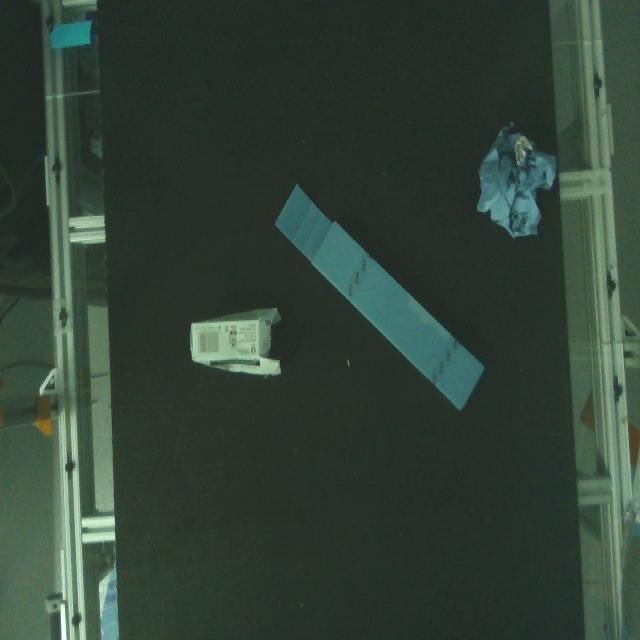paper: (268, 186, 491, 415), (473, 132, 558, 242), (192, 300, 283, 380)
